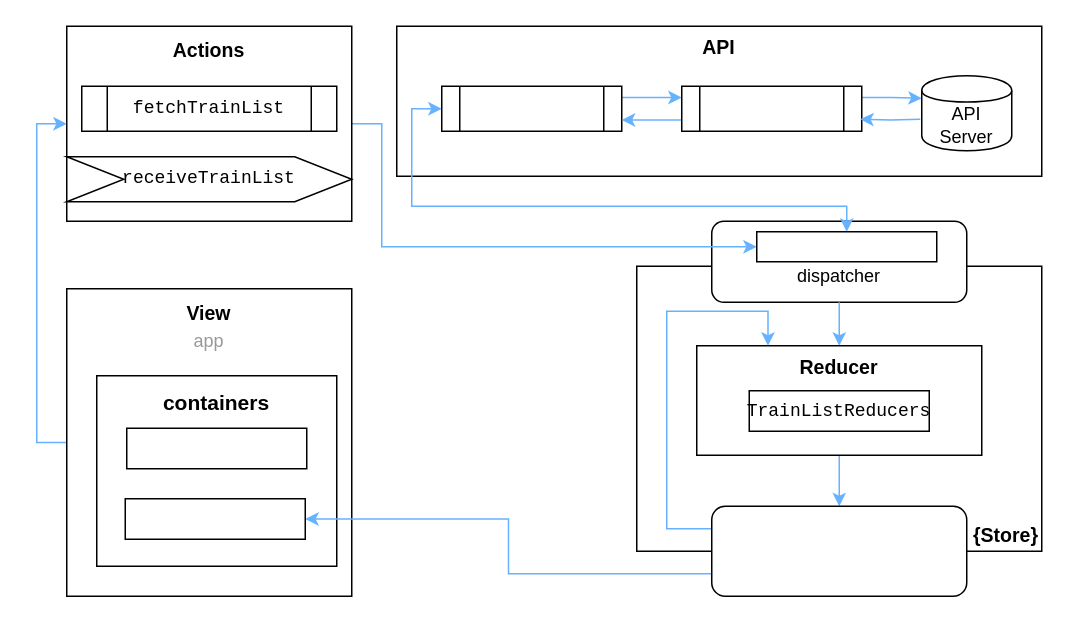
The diagram is 1068 pixels wide and 623 high, and some of its shapes have lost their labels. Each missing label, with the centre of its shape:
apiCall: the point at 771,108
Middlewares: the point at 846,246
QueryMRT: the point at 531,108
RefreshList: the point at 216,448
State: the point at 838,550
TrainList: the point at 214,518
